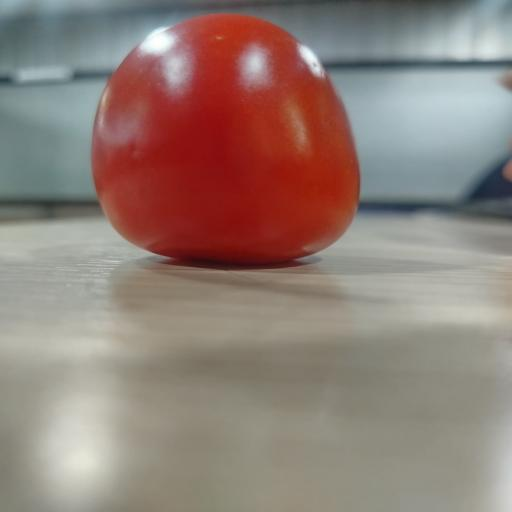ripe: (92, 14, 359, 263)
